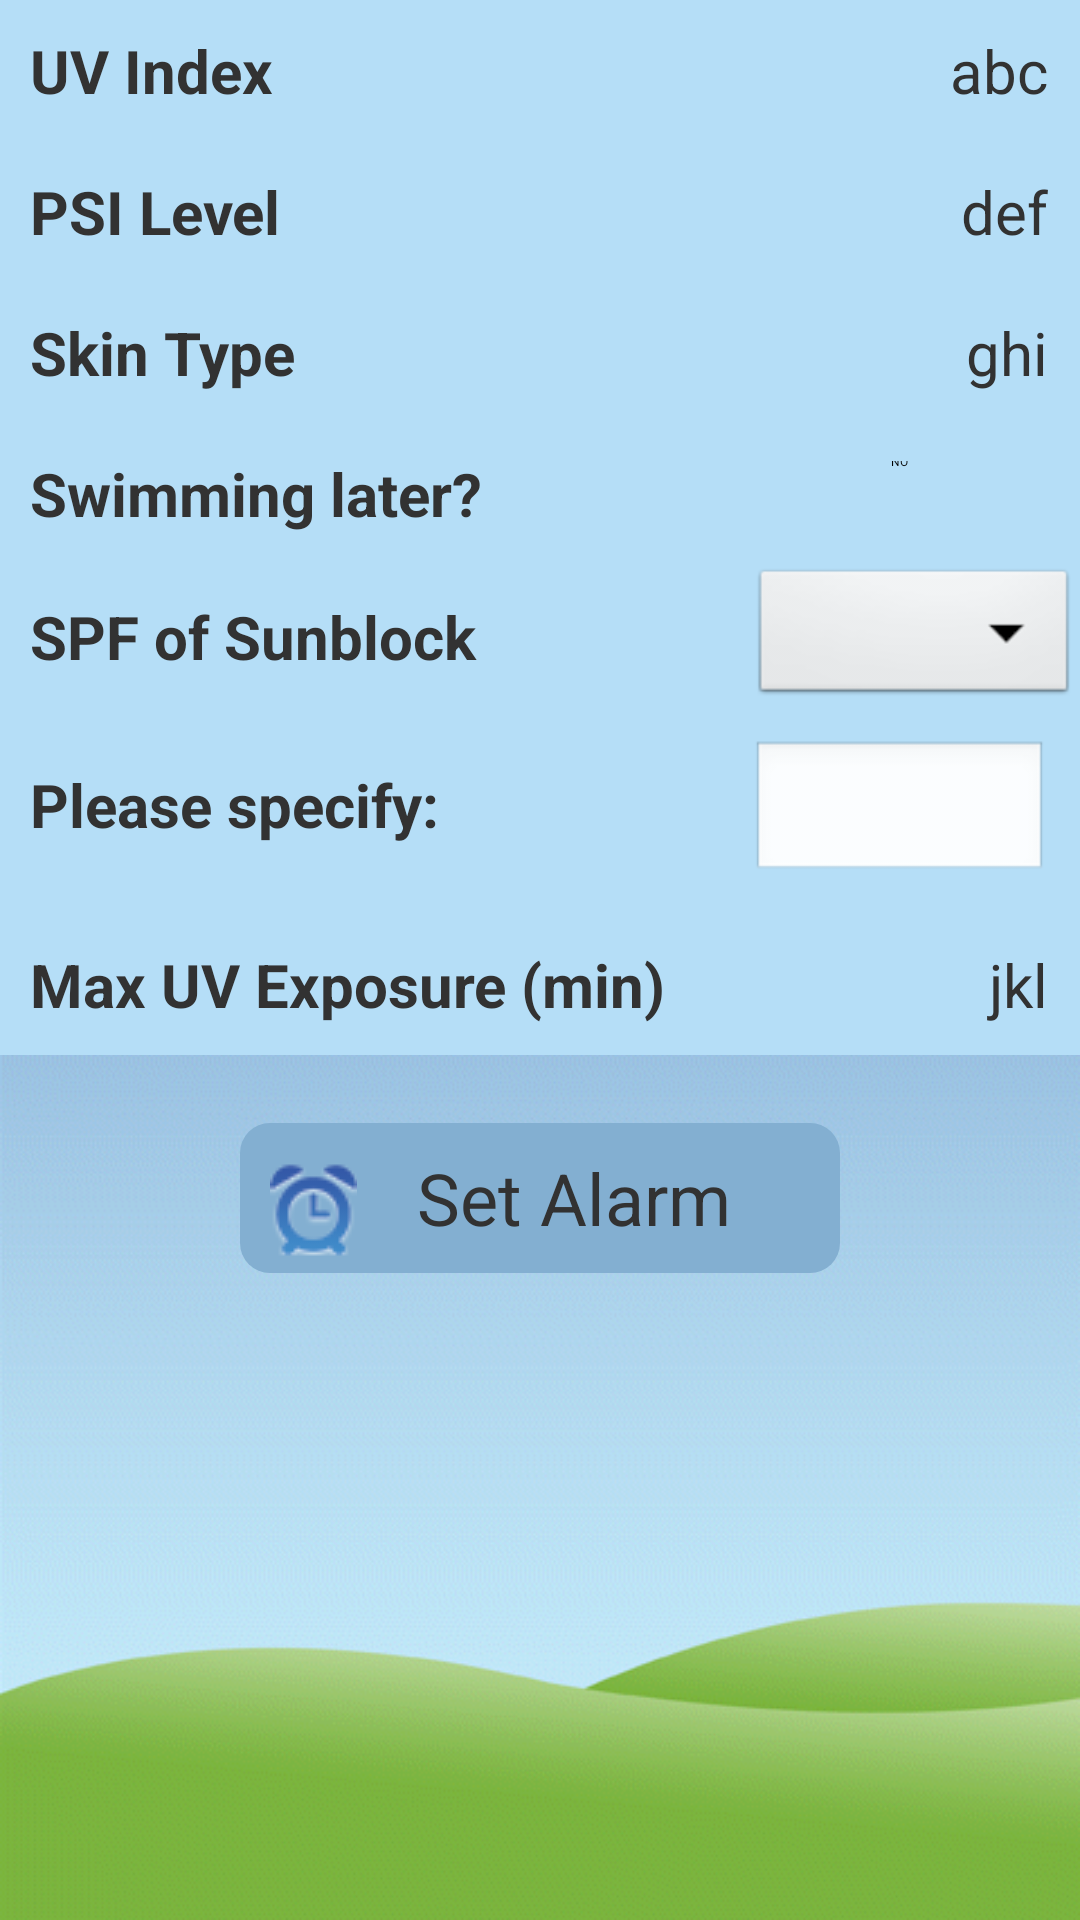

Where to tap for icons on this 1080px x 1920px app screen, as (x=x, y=y):
alarm clock: (x=313, y=1210)
